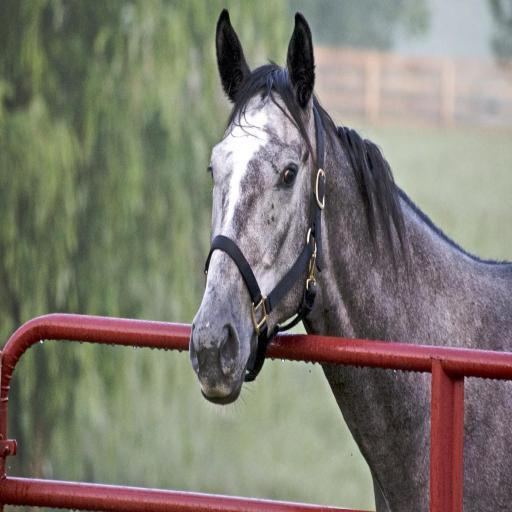horse: (188, 7, 512, 512)
